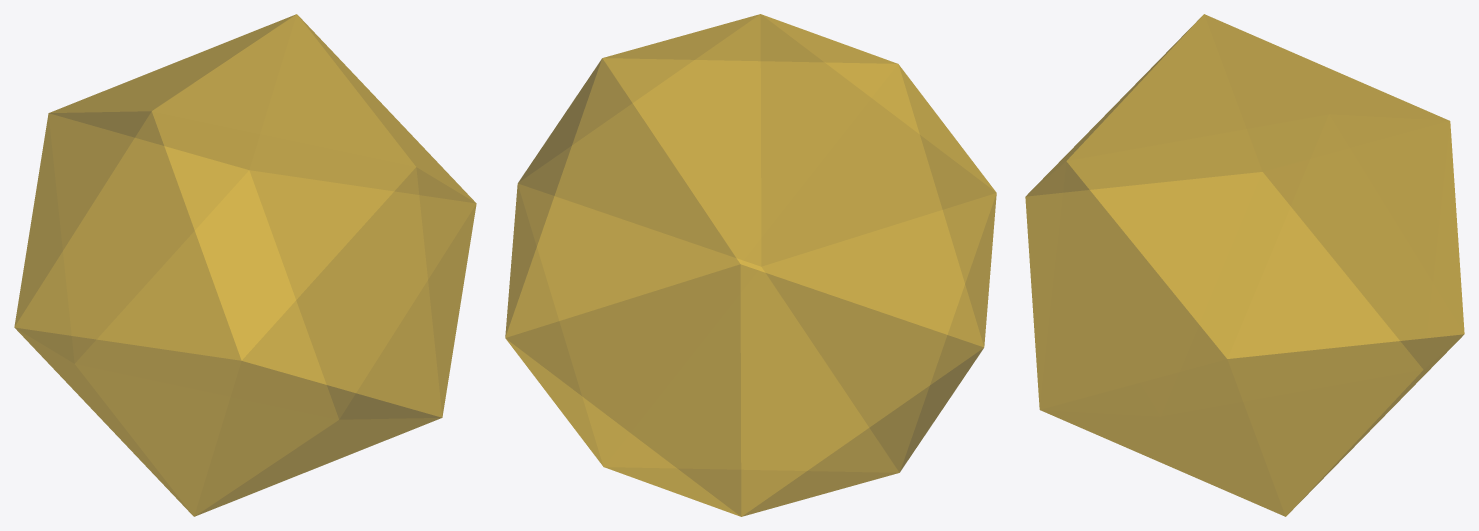
File: shield.obj
The picture shows the model from 3 angles, left to right: view 1: azimuth 30°, elevation 25°; view 2: azimuth 150°, elevation 25°; view 3: azimuth 270°, elevation 25°; orthographic projection. The views are drawn at different scales.
Parts seen in each view (by area): view 1: Icosphere; view 2: Icosphere; view 3: Icosphere.
Part boxes in pixels (left/top/right/bottom): Icosphere: left=14, top=14, right=476, bottom=516; Icosphere: left=505, top=14, right=996, bottom=516; Icosphere: left=1025, top=14, right=1464, bottom=516.
Bounding box in the file's own units: 2.99 × 2.54 × 2.57.
